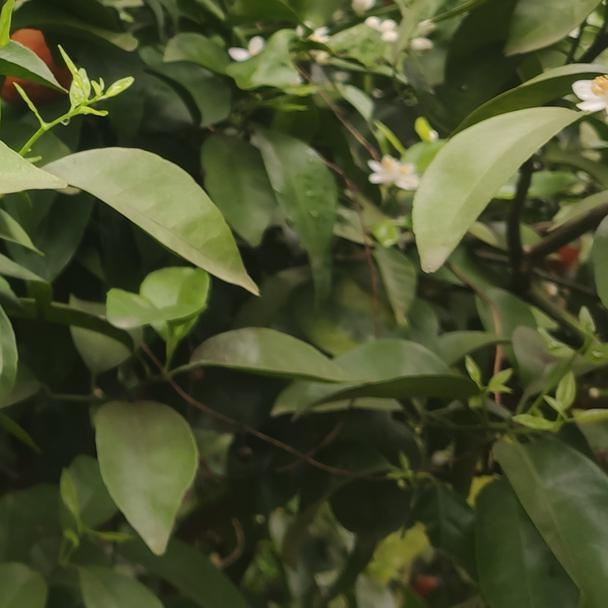shoot: (22, 54, 132, 142)
